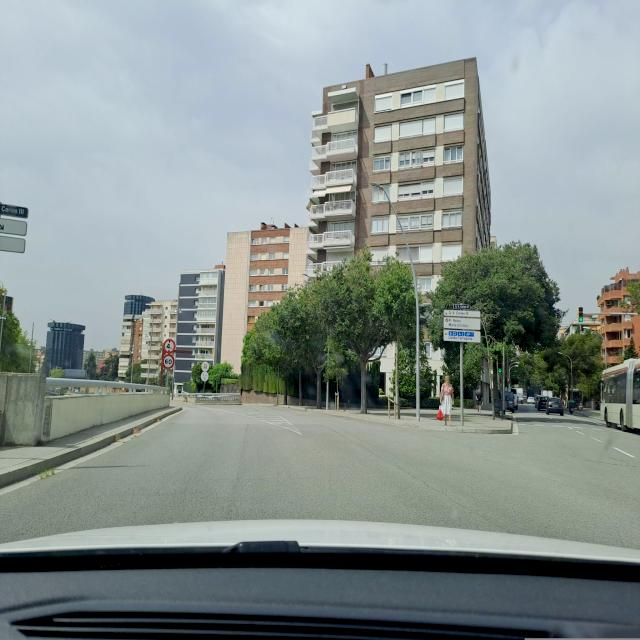car: (545, 396, 565, 416), (503, 391, 518, 412), (535, 394, 551, 412)
